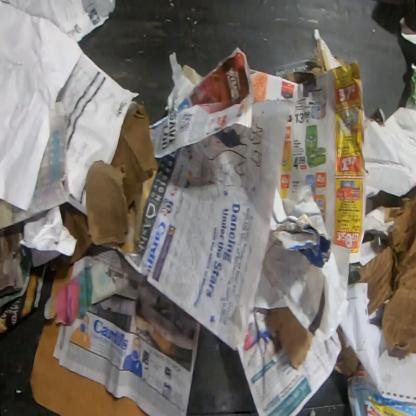cardboard: (28, 317, 152, 416), (355, 184, 415, 356), (110, 104, 158, 210), (363, 106, 415, 198), (86, 160, 129, 246), (270, 213, 332, 268), (50, 201, 92, 273), (267, 306, 313, 370), (48, 264, 74, 300)
rigid_plastic: (273, 59, 321, 75)
